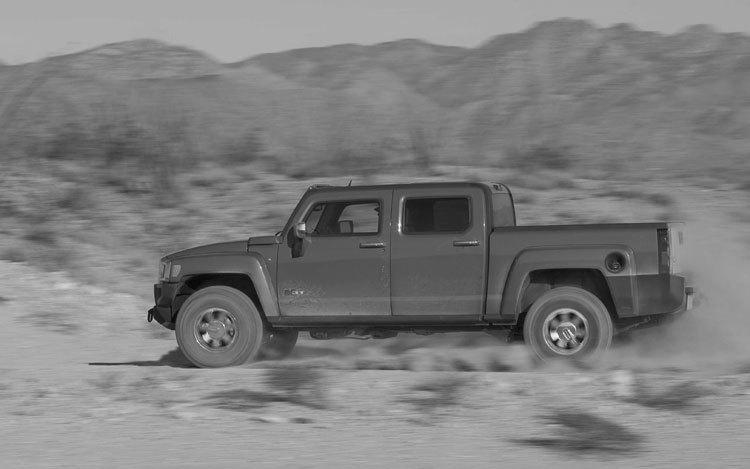car: (145, 179, 703, 377)
